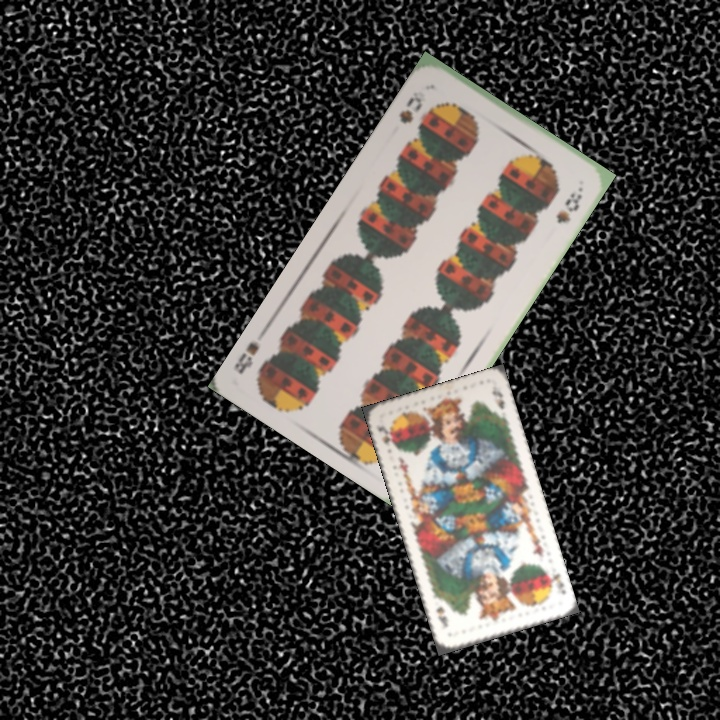S8: (394, 87, 429, 127)
SK: (373, 422, 398, 451), (545, 569, 568, 597)
